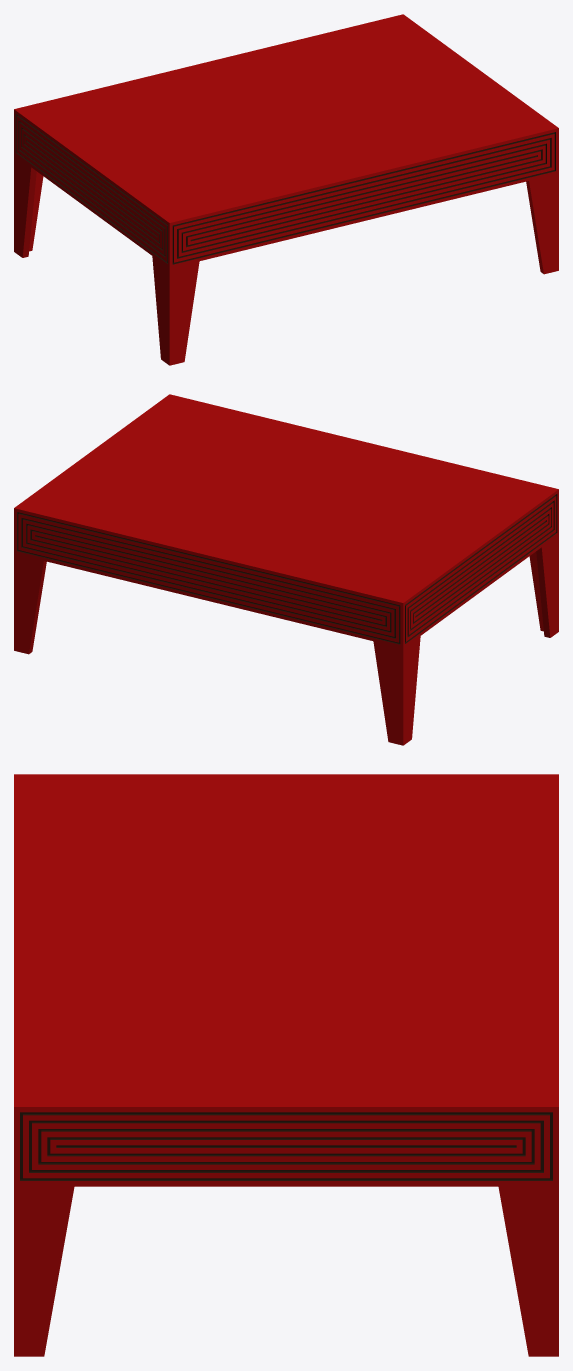
Rendered from Table.FBX.
The picture shows the model from 3 angles, top to bottom: view 1: azimuth 30°, elevation 25°; view 2: azimuth 150°, elevation 25°; view 3: azimuth 270°, elevation 25°; orthographic projection. The views are drawn at different scales.
Parts seen in each view (by area): view 1: 3dSolid (×6); view 2: 3dSolid (×6); view 3: 3dSolid (×5).
Part boxes in pixels (left/top/right/bottom): 3dSolid (×6): left=14, top=14, right=558, bottom=365; 3dSolid (×6): left=14, top=394, right=558, bottom=745; 3dSolid (×5): left=14, top=774, right=558, bottom=1356.
Bounding box in the file's own units: 1300 × 455 × 900.
